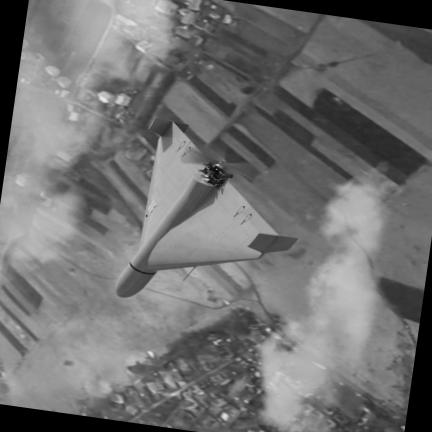Shahed: (116, 117, 297, 297)
